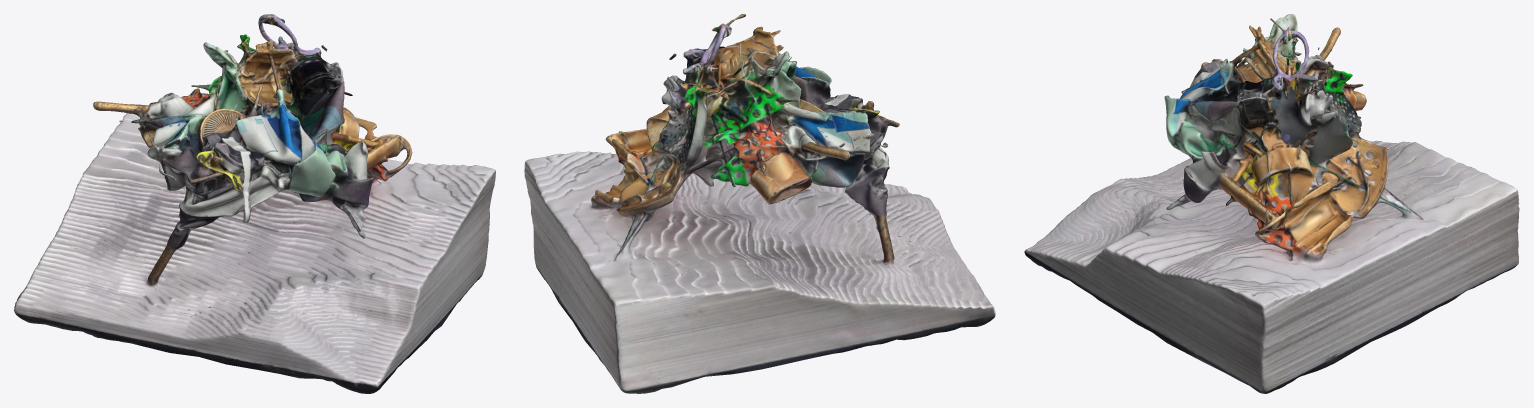
Rendered from study-01.glb.
3 views of the same model, side by side, from view 1: azimuth 30°, elevation 25°; view 2: azimuth 150°, elevation 25°; view 3: azimuth 270°, elevation 25° (orthographic). The views are drawn at different scales.
Parts seen in each view (by area): view 1: model; view 2: model; view 3: model.
Part boxes in pixels (box(x1,y1,x2,y2)): model: box(14, 14, 495, 393); model: box(524, 14, 995, 393); model: box(1024, 14, 1519, 393).
Bounding box in the file's own units: 1 × 0.624 × 0.9811.
1 material, 1 textured.
